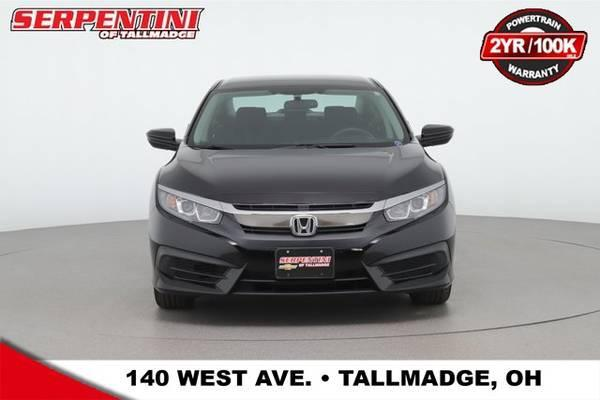Front_Bumper: (147, 183, 454, 266)
Front_Windshield: (184, 87, 417, 152)
Grille: (151, 240, 451, 301)
Hood: (157, 144, 446, 206)
Left_Headlight: (383, 179, 447, 226)
Left_Mirror: (418, 124, 455, 148)
Right_Headlight: (156, 186, 226, 229)
Right_Mirror: (147, 126, 180, 153)
Roof: (208, 73, 381, 91)
